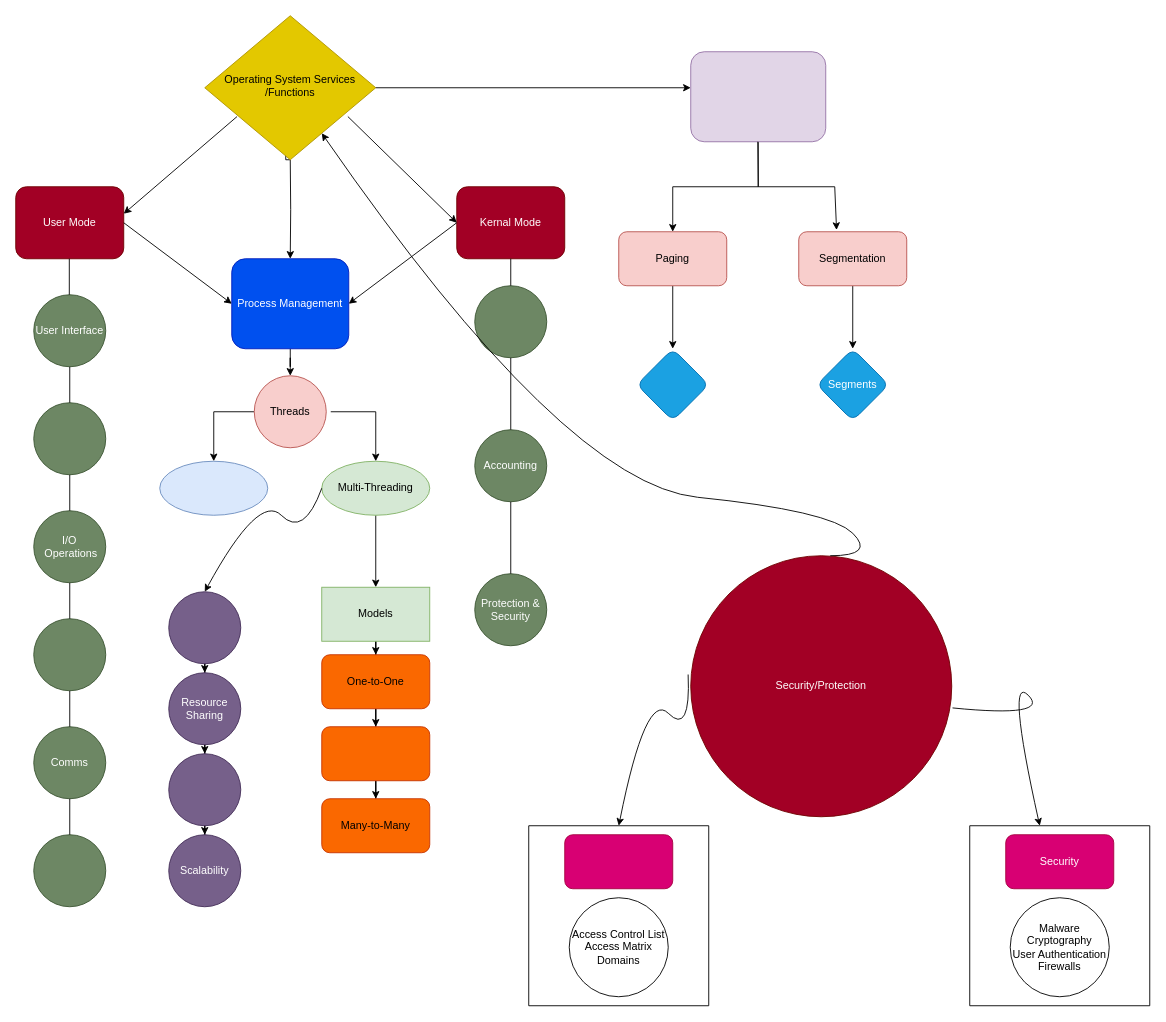
Some shapes in this 1166 by 1022 pixel diagram are drawn without their labels. The centre of each missing label's shape, as x and y in pixels:
"Economy" belongs at pixel 204 789.
"Error Detection" belongs at pixel 69 870.
"File-System Manipulation" belongs at pixel 69 654.
"Frames" belongs at pixel 672 384.
"Many-to-One" belongs at pixel 375 753.
"Memory Management" belongs at pixel 758 96.
"Program Execution" belongs at pixel 69 438.
"Protection" belongs at pixel 618 861.
"Resource Allocation" belongs at pixel 510 321.
"Responsiveness" belongs at pixel 204 627.
"Single-Threading" belongs at pixel 213 487.
